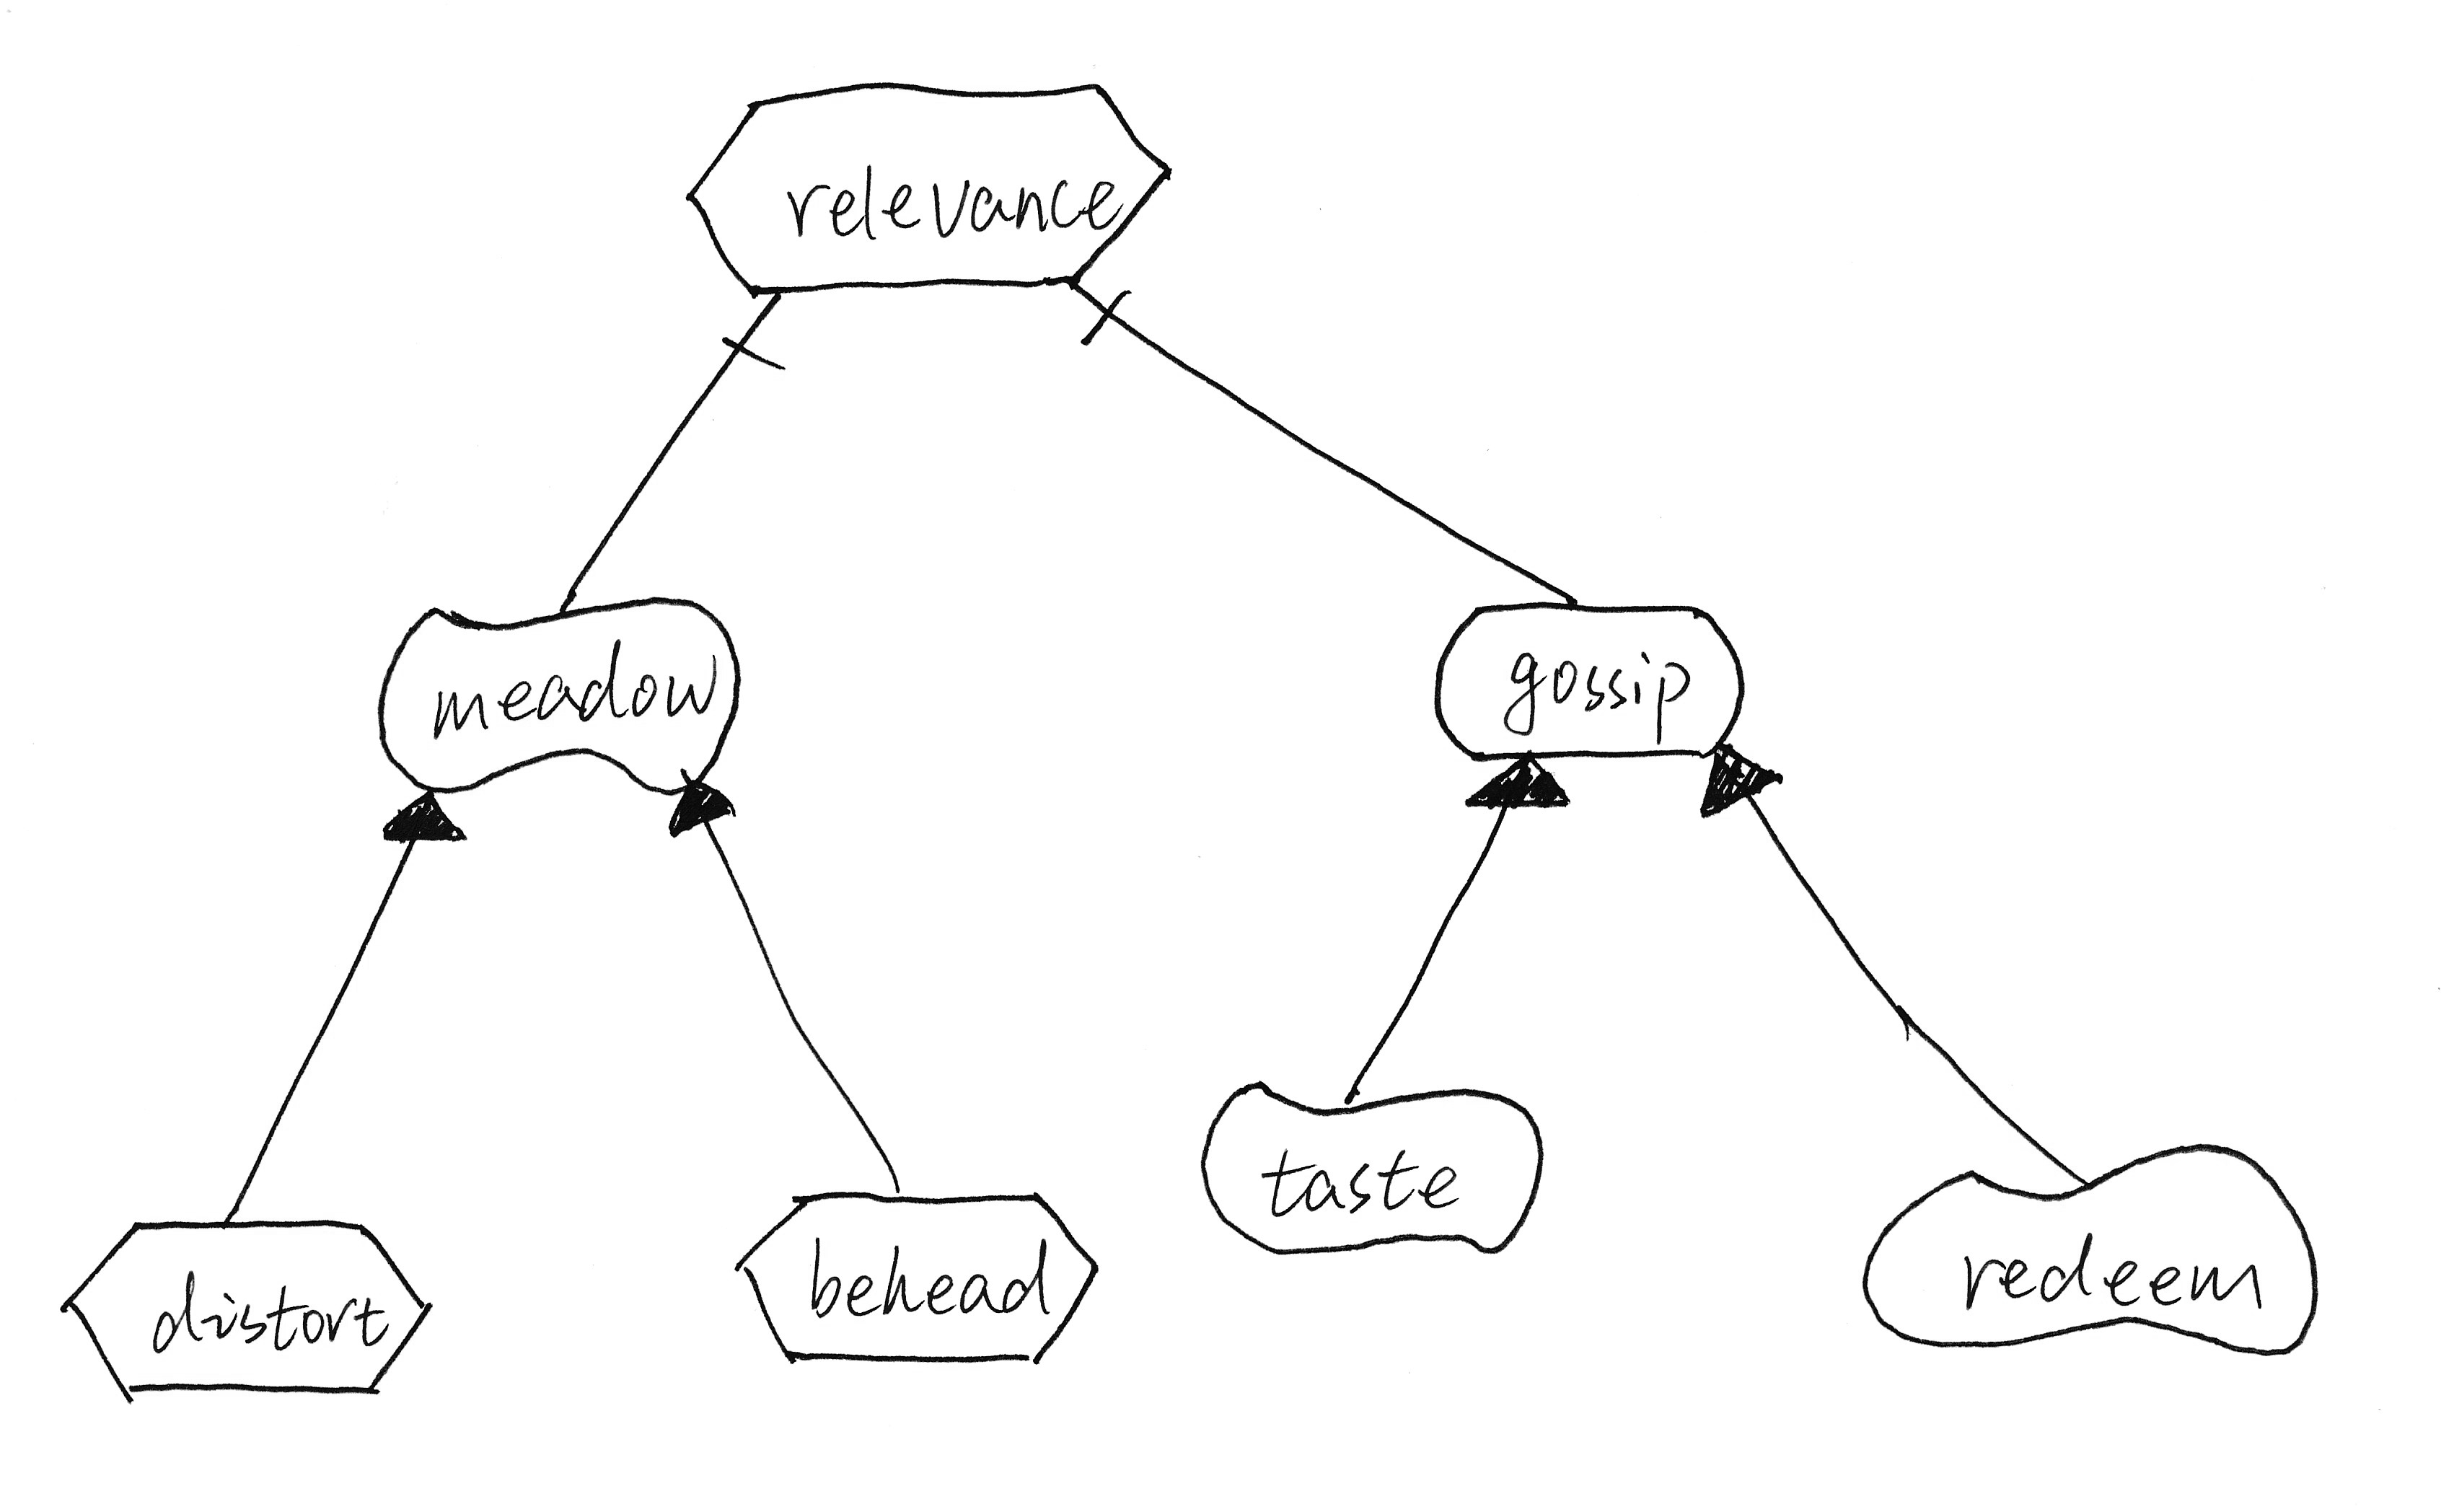and: (696, 289, 794, 403), (1060, 286, 1159, 357)
goal: (1413, 585, 1765, 781)
or: (1679, 731, 1804, 829), (1457, 739, 1585, 830), (366, 780, 477, 866), (654, 769, 750, 851)
quality: (1848, 1123, 2338, 1377), (361, 583, 762, 808), (1190, 1063, 1560, 1275)
task: (664, 37, 1180, 314), (37, 1191, 452, 1421), (722, 1176, 1117, 1396)
